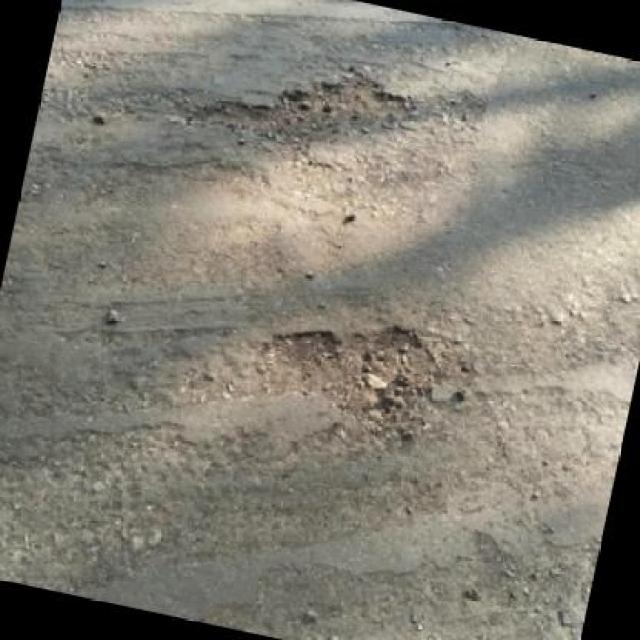pothole1: (182, 34, 424, 180), (246, 292, 449, 458)
